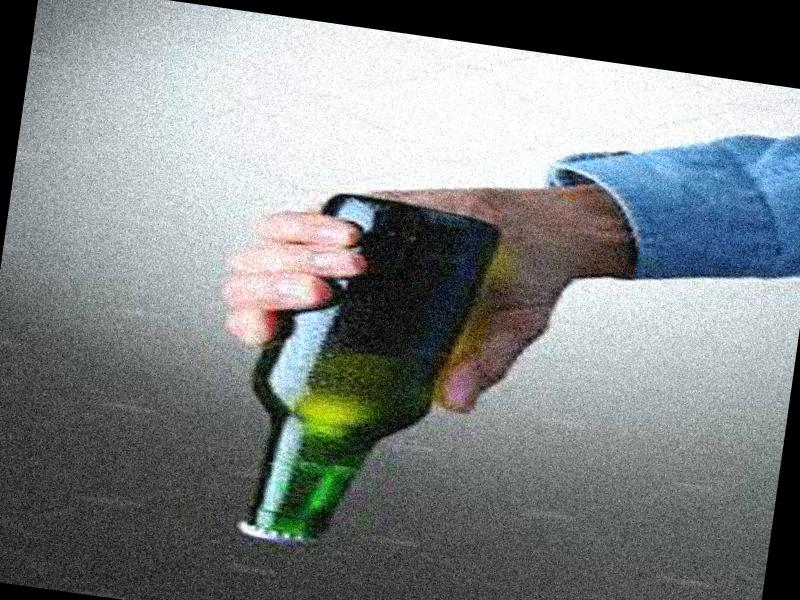Beer: (220, 185, 506, 562)
